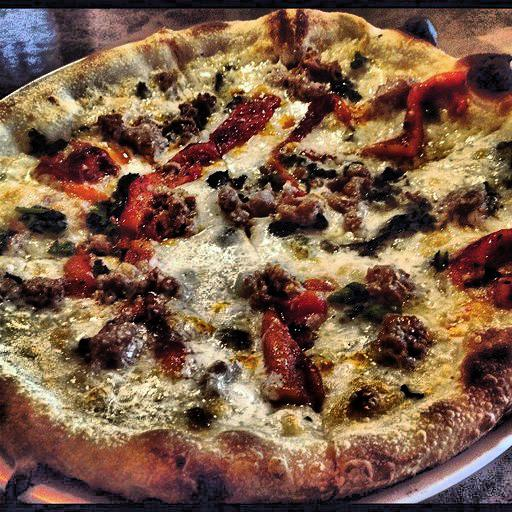pizza: (2, 14, 512, 512)
